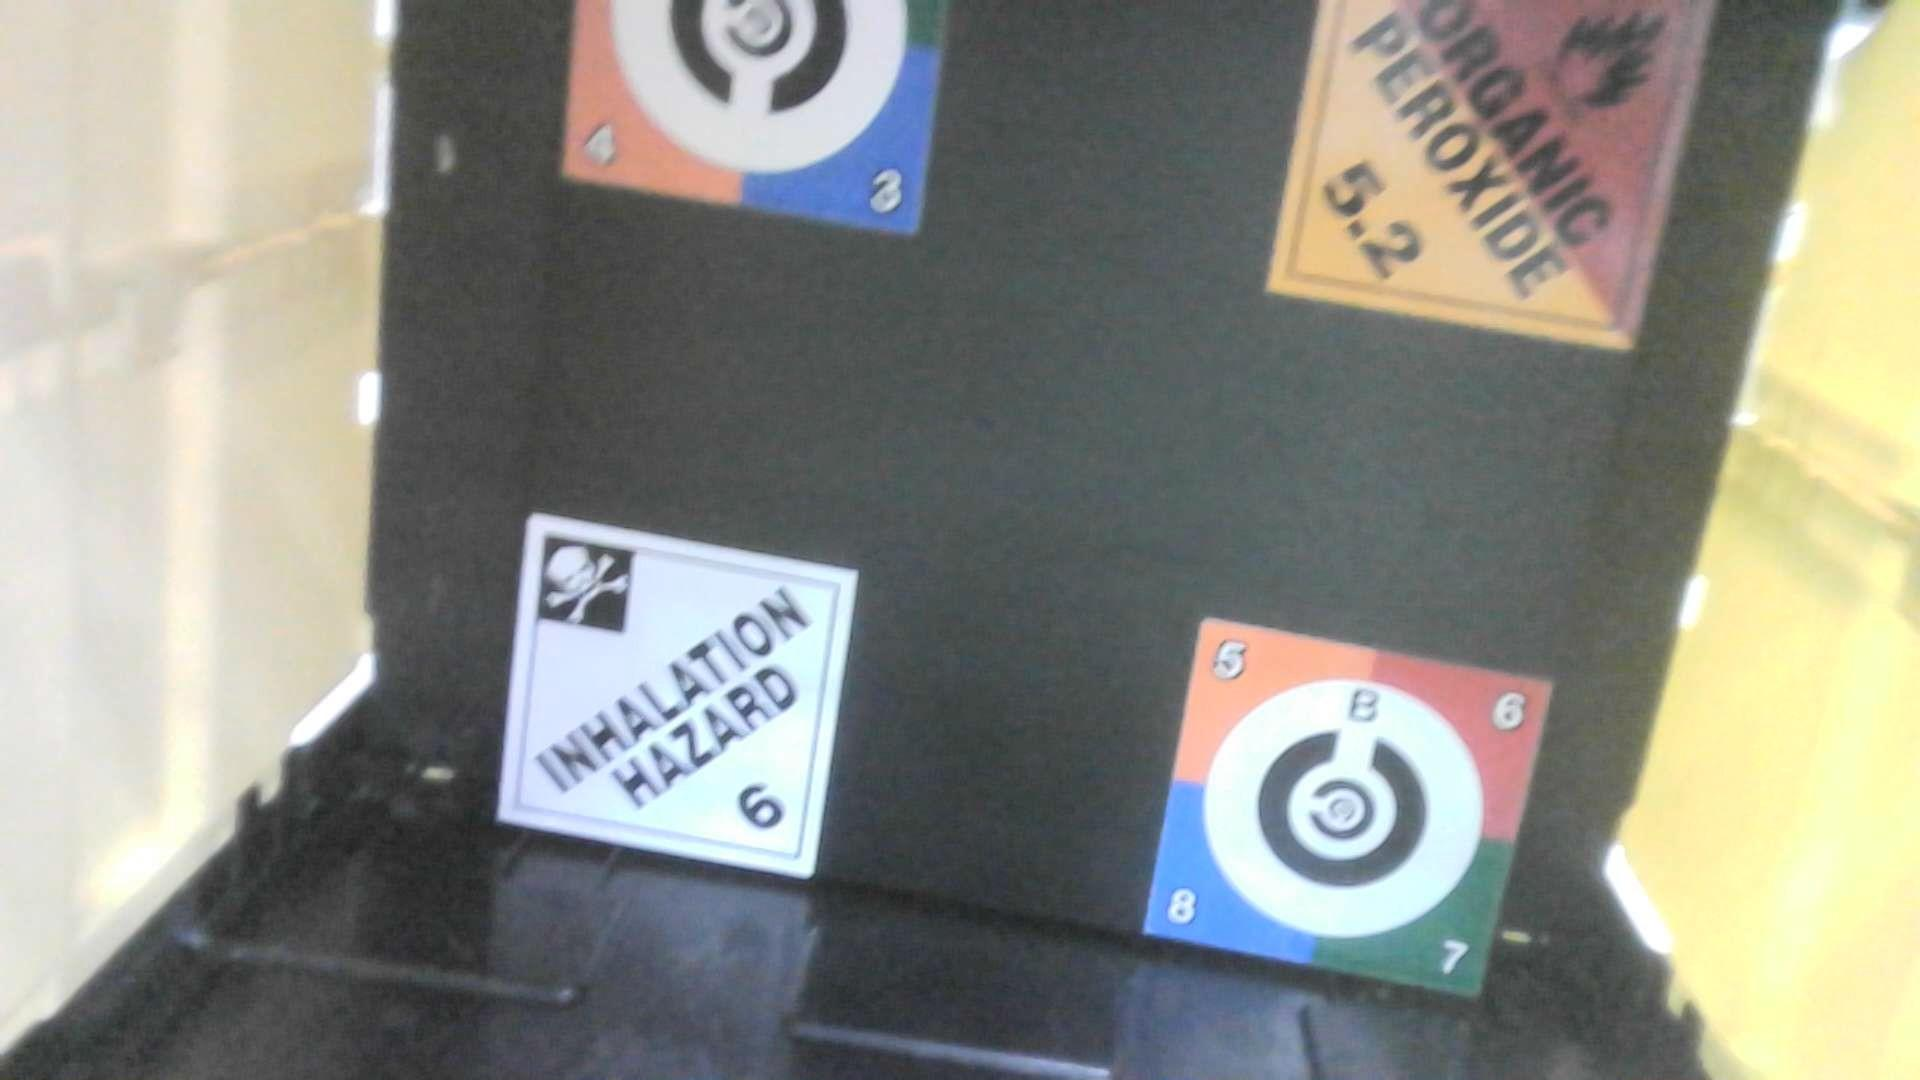organic-peroxide: (1251, 1, 1731, 361)
poison: (495, 509, 864, 882)
